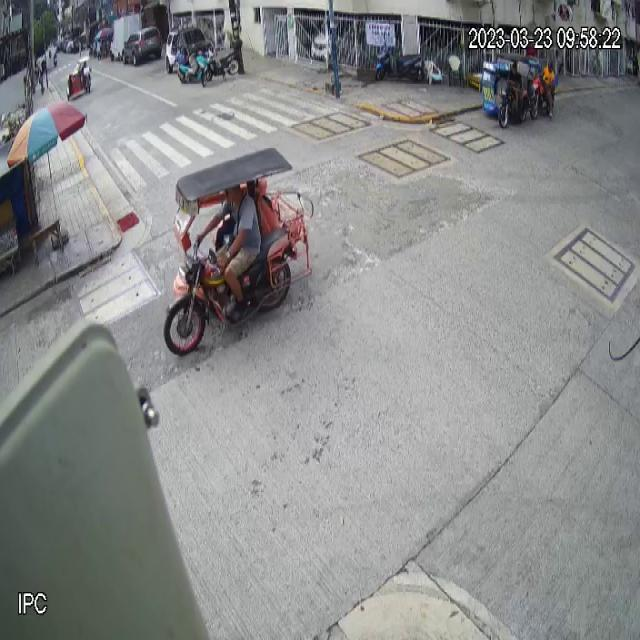Tricycle: (163, 147, 314, 357), (479, 51, 531, 128)
